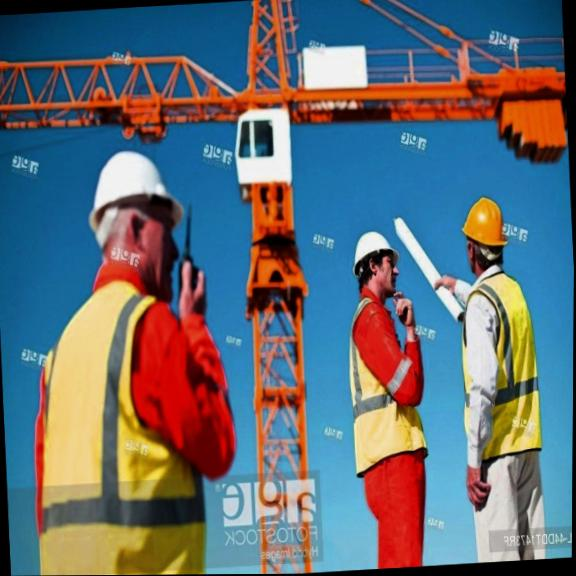safety_vest: (19, 271, 240, 576), (453, 261, 546, 465), (341, 291, 431, 481)
